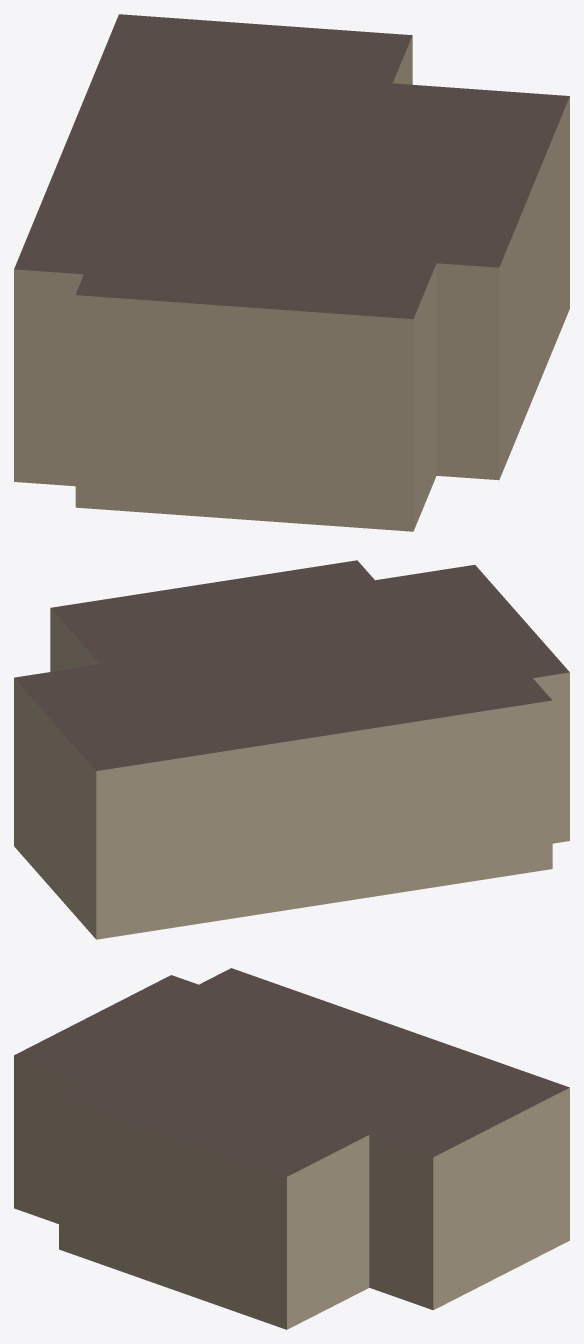
The picture shows the model from 3 angles, top to bottom: view 1: azimuth 30°, elevation 25°; view 2: azimuth 150°, elevation 25°; view 3: azimuth 270°, elevation 25°; orthographic projection. The views are drawn at different scales.
Parts seen in each view (by area): view 1: HP-w298783122; view 2: HP-w298783122; view 3: HP-w298783122.
Boxes of the visible parts, x1,y1,x2,y2 form: HP-w298783122: (14,14,569,531); HP-w298783122: (14,560,569,939); HP-w298783122: (14,968,569,1329).
Size of the model in its own units: 26.35 by 9 by 29.64.
